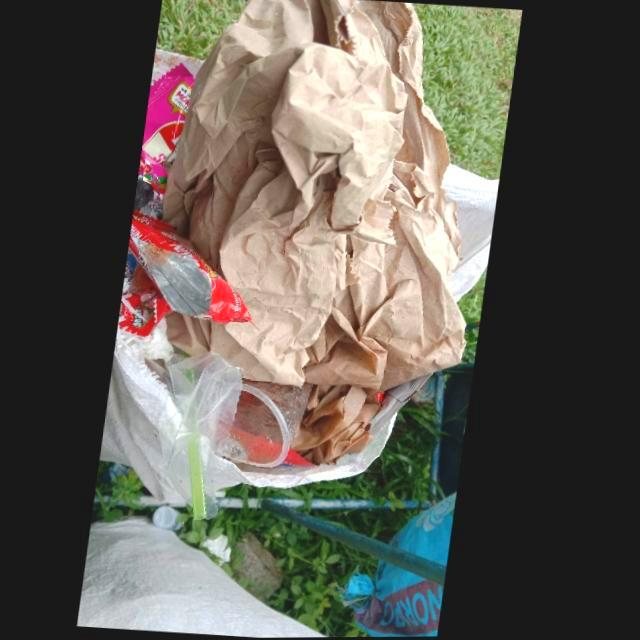food_wrapper: (130, 211, 261, 329), (139, 63, 195, 221)
paper: (163, 0, 470, 467)
